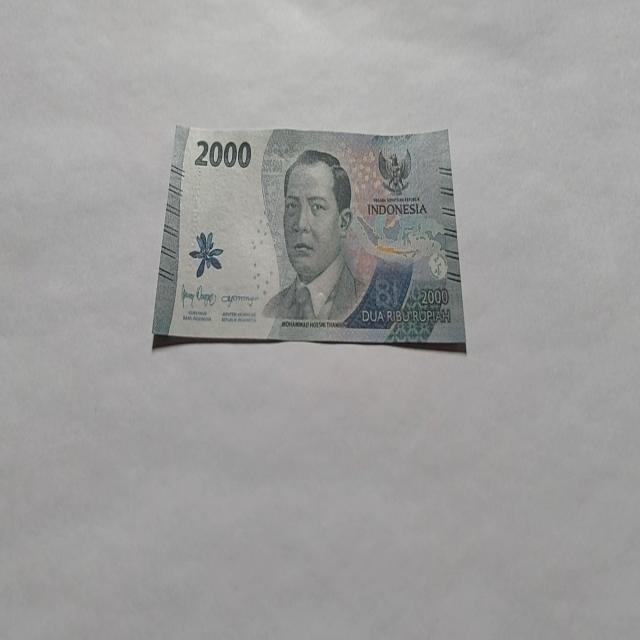dua ribu rupiah: (152, 122, 466, 352), (261, 148, 367, 324)
